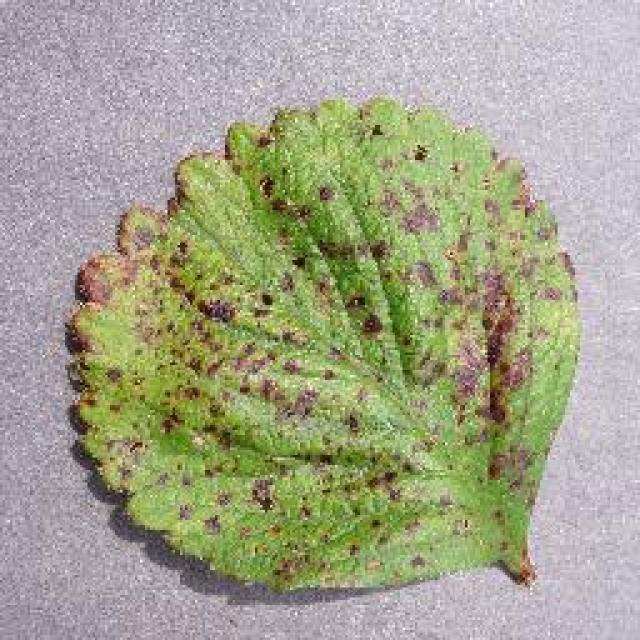Strawberry leaf scorch: (134, 217, 534, 518)
